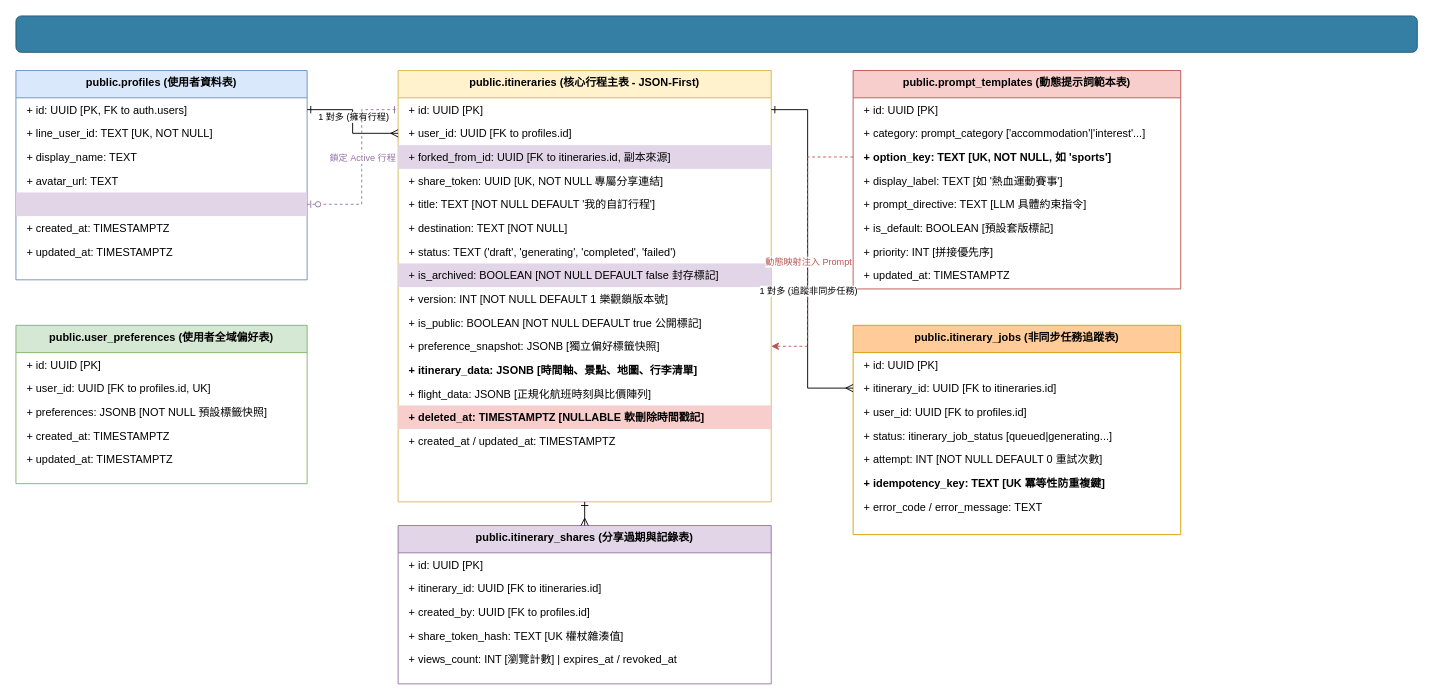
This 1433x700 diagram has some shape labels left out. The centre of each missing label's shape, as x and y in pixels:
+ active_itinerary_id: UUID [FK to itineraries.id]: the point at 161,204
Atrip (你的 AI 自由行規劃夥伴) - 資料庫實體關係圖 (Database ERD): the point at 716,33
